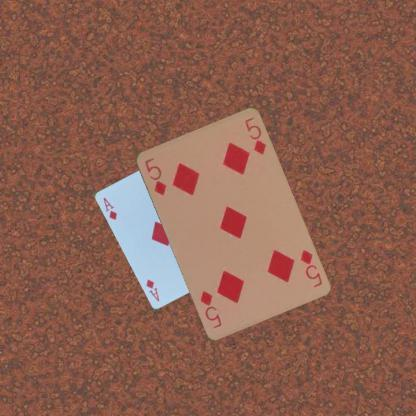5d: (297, 247, 324, 289), (142, 155, 168, 197)
Ad: (101, 194, 119, 222)
